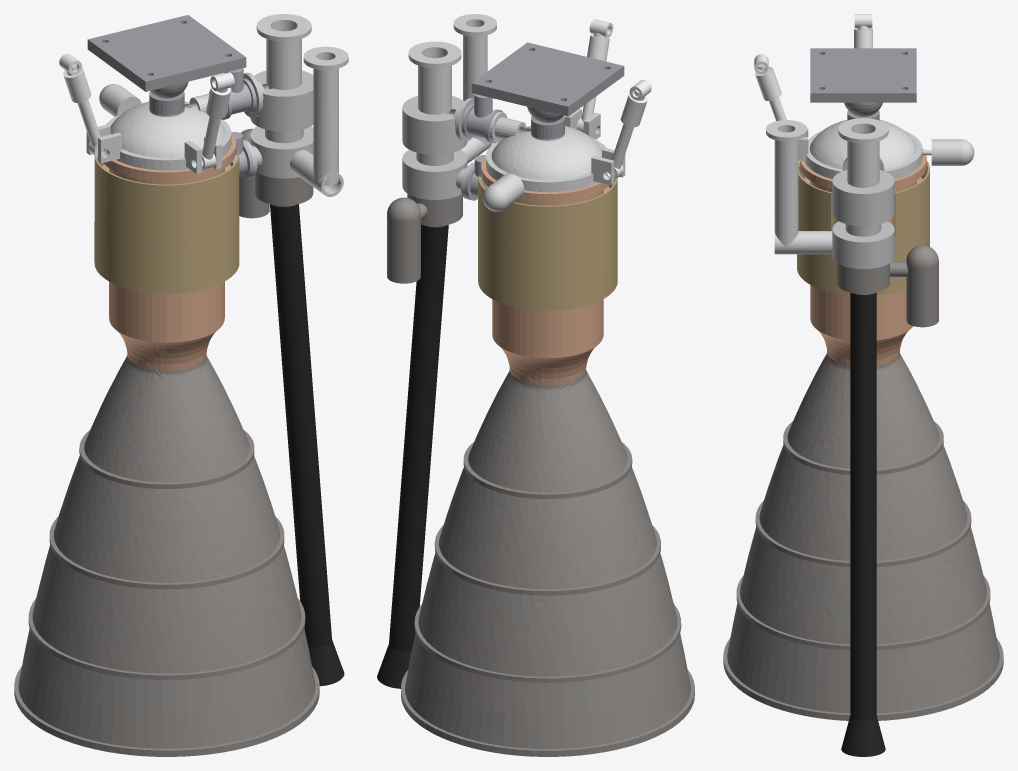
Rendered from ENG_M1D.glb.
3 views of the same model, side by side, from view 1: azimuth 30°, elevation 25°; view 2: azimuth 150°, elevation 25°; view 3: azimuth 270°, elevation 25° (orthographic). The views are drawn at different scales.
Parts seen in each view (by area): view 1: ENG-M1D-020, ENG-M1D-130, ENG-M1D-060, ENG-M1D-010, ENG-M1D-100, ENG-M1D-090, ENG-M1D-030, ENG-M1D-042, ENG-M1D-043, ENG-M1D-110__yaw, ENG-M1D-110__pitch, ENG-M1D-041 (+4 smaller); view 2: ENG-M1D-020, ENG-M1D-130, ENG-M1D-060, ENG-M1D-010, ENG-M1D-100, ENG-M1D-030, ENG-M1D-090, ENG-M1D-042, ENG-M1D-050, ENG-M1D-043, ENG-M1D-110__pitch, ENG-M1D-080 (+4 smaller); view 3: ENG-M1D-020, ENG-M1D-060, ENG-M1D-090, ENG-M1D-100, ENG-M1D-130, ENG-M1D-010, ENG-M1D-030, ENG-M1D-042, ENG-M1D-050, ENG-M1D-043, ENG-M1D-041, ENG-M1D-120 (+2 smaller).
Boxes of the visible parts, x1,y1,x2,y2 form: ENG-M1D-020: (14,355,319,756); ENG-M1D-130: (94,153,239,293); ENG-M1D-060: (270,204,344,686); ENG-M1D-010: (102,133,236,370); ENG-M1D-100: (87,15,246,115); ENG-M1D-090: (256,14,348,196); ENG-M1D-030: (86,90,231,174); ENG-M1D-042: (243,70,313,143); ENG-M1D-043: (243,126,313,178); ENG-M1D-110__yaw: (202,72,234,169); ENG-M1D-110__pitch: (59,53,106,157); ENG-M1D-041: (255,172,313,206); ENG-M1D-020: (401,369,694,756); ENG-M1D-130: (478,176,617,310); ENG-M1D-060: (377,224,448,688); ENG-M1D-010: (481,156,609,384); ENG-M1D-100: (471,42,624,139); ENG-M1D-030: (486,108,625,192); ENG-M1D-090: (408,14,496,163); ENG-M1D-042: (402,96,473,165); ENG-M1D-050: (387,197,427,283); ENG-M1D-043: (402,149,474,199); ENG-M1D-110__pitch: (606,80,651,179); ENG-M1D-080: (461,93,502,143); ENG-M1D-020: (723,352,1003,720); ENG-M1D-060: (841,292,885,756); ENG-M1D-090: (766,118,888,254); ENG-M1D-100: (810,48,916,120); ENG-M1D-130: (797,161,929,295); ENG-M1D-010: (800,148,926,365); ENG-M1D-030: (798,120,922,178); ENG-M1D-042: (832,157,894,236); ENG-M1D-050: (890,245,938,327); ENG-M1D-043: (832,221,894,269); ENG-M1D-041: (837,263,889,294); ENG-M1D-120: (922,139,974,165).
Bounding box in the file's own units: 1.1 × 2.33 × 0.9477.
Materials: 1 (1 with a texture image).
